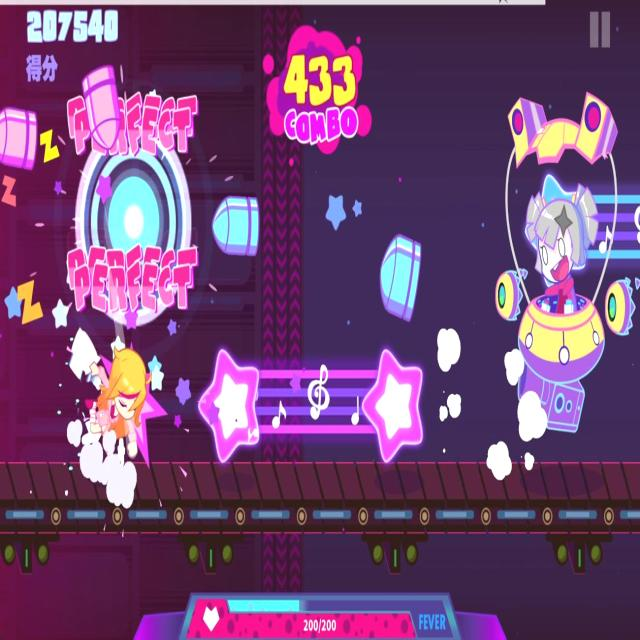hold: (200, 350, 428, 460), (523, 162, 640, 276)
jian: (380, 230, 422, 329), (81, 59, 123, 150), (210, 192, 262, 256), (0, 94, 39, 175)
qiangboss: (488, 78, 640, 458)
